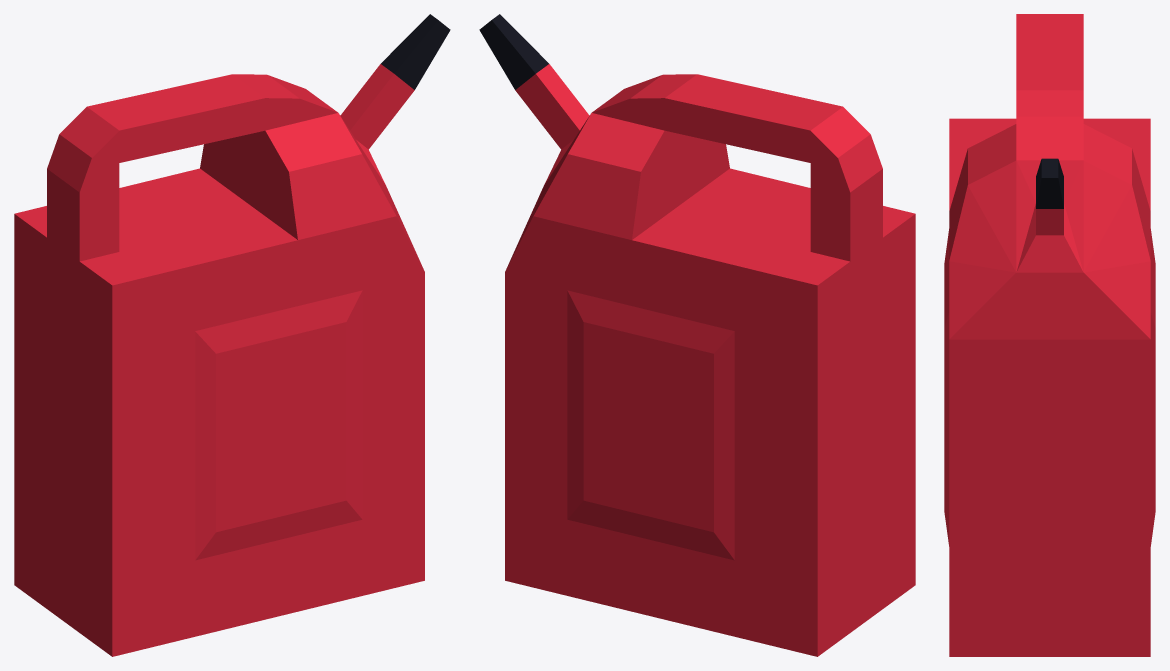
Rendered from bonus.obj.
3 renders of one model, left to right at view 1: azimuth 30°, elevation 25°; view 2: azimuth 150°, elevation 25°; view 3: azimuth 270°, elevation 25°, orthographic. The views are drawn at different scales.
Visible parts, largest first — view 1: GAZ; view 2: GAZ; view 3: GAZ.
Boxes of the visible parts, x1,y1,x2,y2 form: GAZ: (14,14,450,656); GAZ: (479,14,915,656); GAZ: (944,14,1155,656).
Size of the model in its own units: 0.4244 by 0.5435 by 0.1971.
